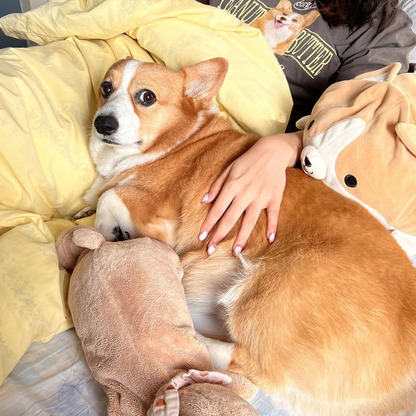Corgi: (85, 51, 253, 247)
